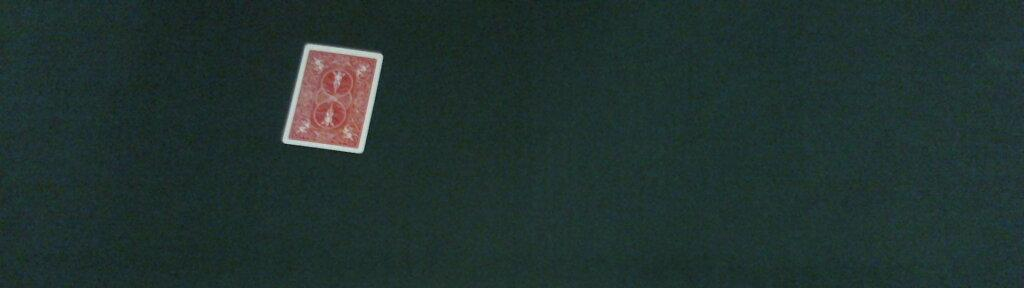back: (280, 42, 384, 155)
